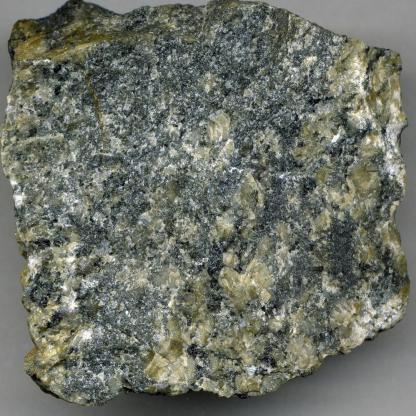Igneous_Diorite: (3, 0, 410, 408)
